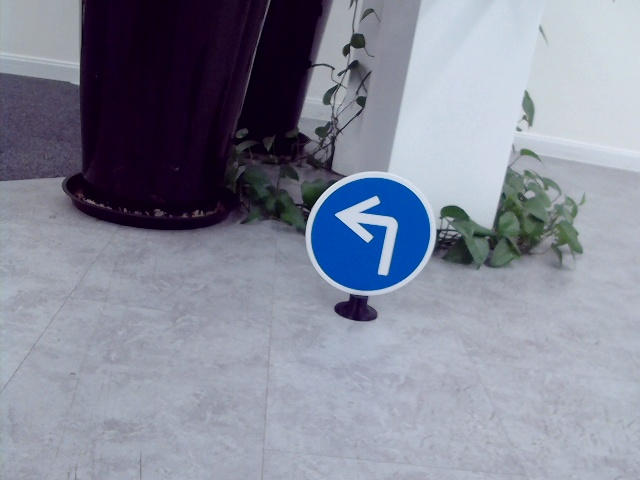turn_left: (334, 193, 403, 279)
